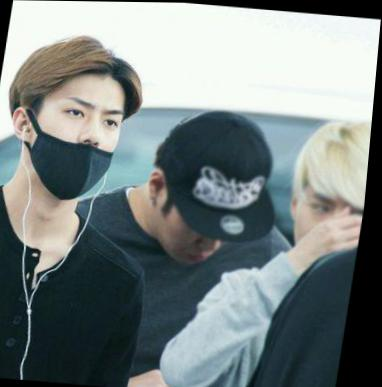NONE: (150, 187, 254, 268), (289, 182, 370, 274)
WRONG: (18, 89, 133, 198)
